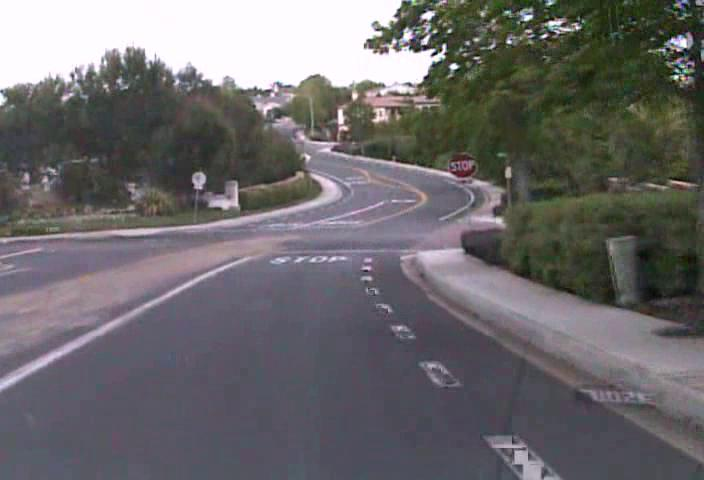stop: (447, 151, 478, 180)
